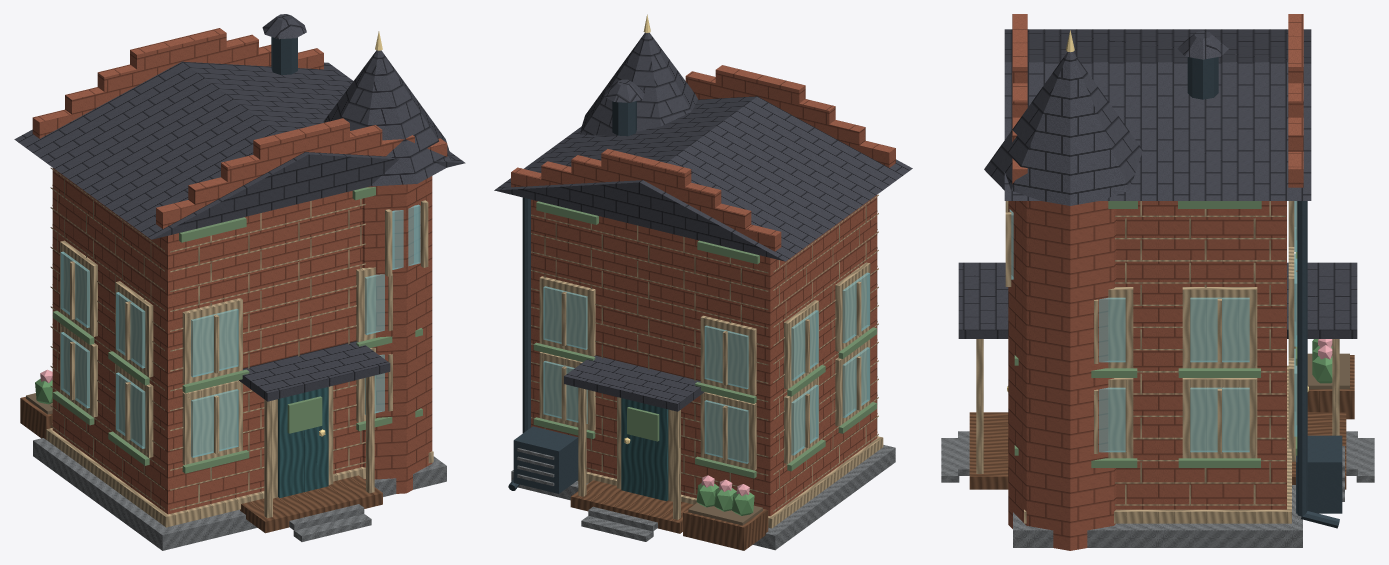
File: house_townhouse_lv3_tower.glb
The picture shows the model from 3 angles, left to right: view 1: azimuth 30°, elevation 25°; view 2: azimuth 150°, elevation 25°; view 3: azimuth 270°, elevation 25°; orthographic projection. The views are drawn at different scales.
Parts seen in each view (by area): view 1: walls, gable_roof, tower, tower_roof, foundation, front_porch_canopy, front_door, front_window_frame.002, front_window_frame, front_deck, floor_trim, stepped_gable.006 (+32 smaller); view 2: walls, gable_roof, tower_roof, back_porch_canopy, foundation, back_door, back_window_frame.002, back_window_frame.003, back_window_frame, back_ac_unit, back_deck, back_window_frame.001 (+36 smaller); view 3: gable_roof, walls, tower, tower_roof, foundation, right_window_frame.003, right_window_frame.001, back_porch_canopy, front_porch_canopy, right_window_glass.001, right_window_glass.003, back_downspout (+30 smaller).
Part boxes in pixels (x1,y1,x2,y2): walls: (52, 168, 362, 514); gable_roof: (14, 61, 465, 239); tower: (362, 176, 432, 493); tower_roof: (323, 50, 450, 186); foundation: (33, 438, 446, 550); front_porch_canopy: (239, 341, 390, 401); front_door: (278, 387, 328, 497); front_window_frame.002: (182, 298, 242, 384); front_window_frame: (182, 380, 242, 464); front_deck: (240, 475, 382, 533); floor_trim: (46, 428, 433, 527); stepped_gable.006: (97, 34, 258, 92); walls: (531, 195, 877, 516); gable_roof: (494, 96, 912, 261); tower_roof: (580, 32, 698, 136); back_porch_canopy: (564, 355, 704, 411); foundation: (511, 445, 895, 550); back_door: (621, 398, 668, 501); back_window_frame.002: (700, 315, 756, 395); back_window_frame.003: (539, 276, 595, 356); back_window_frame: (700, 392, 756, 470); back_ac_unit: (513, 426, 578, 493); back_deck: (570, 480, 693, 533); back_window_frame.001: (539, 352, 595, 431); gable_roof: (1004, 29, 1311, 200); walls: (1116, 201, 1286, 509); tower: (1008, 201, 1116, 550); tower_roof: (984, 52, 1142, 205); foundation: (1013, 485, 1302, 547); right_window_frame.003: (1182, 287, 1257, 368); right_window_frame.001: (1182, 378, 1257, 458); back_porch_canopy: (1287, 262, 1357, 338); front_porch_canopy: (958, 262, 1008, 338); right_window_glass.001: (1190, 387, 1249, 452); right_window_glass.003: (1190, 297, 1249, 362); back_downspout: (1297, 201, 1307, 516).
Bounding box in the file's own units: 3.25 × 4.24 × 3.36.
13 materials, 7 textured.
